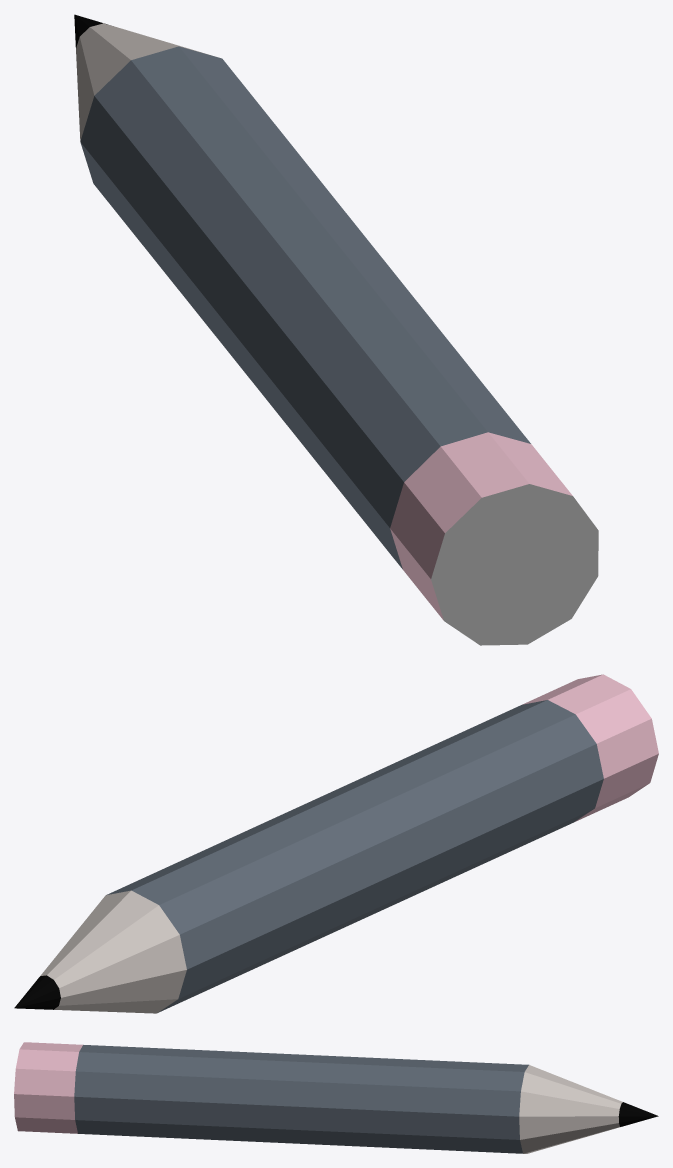
Rendered from SU_blackpen.fbx.
3 renders of one model, top to bottom at view 1: azimuth 30°, elevation 25°; view 2: azimuth 150°, elevation 25°; view 3: azimuth 270°, elevation 25°, orthographic. The views are drawn at different scales.
Visible parts, largest first — view 1: pCylinder12; view 2: pCylinder12; view 3: pCylinder12.
Boxes of the visible parts, box(x1,y1,x2,y2) form: pCylinder12: box(74, 14, 598, 645); pCylinder12: box(14, 674, 658, 1013); pCylinder12: box(14, 1042, 658, 1153).
Bounding box in the file's own units: 0.2186 × 0.1316 × 0.7965.
